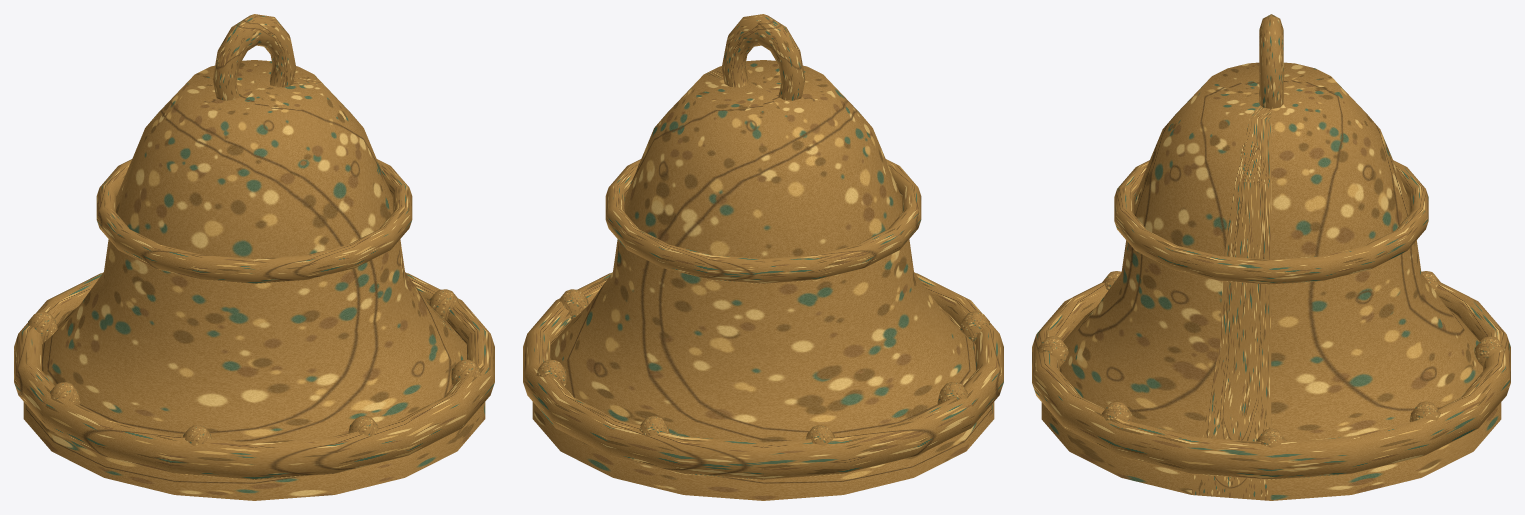
File: chuong-dong.glb
3 views of the same model, side by side, from view 1: azimuth 30°, elevation 25°; view 2: azimuth 150°, elevation 25°; view 3: azimuth 270°, elevation 25° (orthographic).
Visible parts, largest first — view 1: than-chuong; view 2: than-chuong; view 3: than-chuong.
Part boxes in pixels (x1,y1,x2,y2): than-chuong: (14,14,494,500); than-chuong: (523,14,1003,500); than-chuong: (1032,14,1510,500).
Size of the model in its own units: 0.198 by 0.1736 by 0.195.
Materials: 1 (1 with a texture image).
